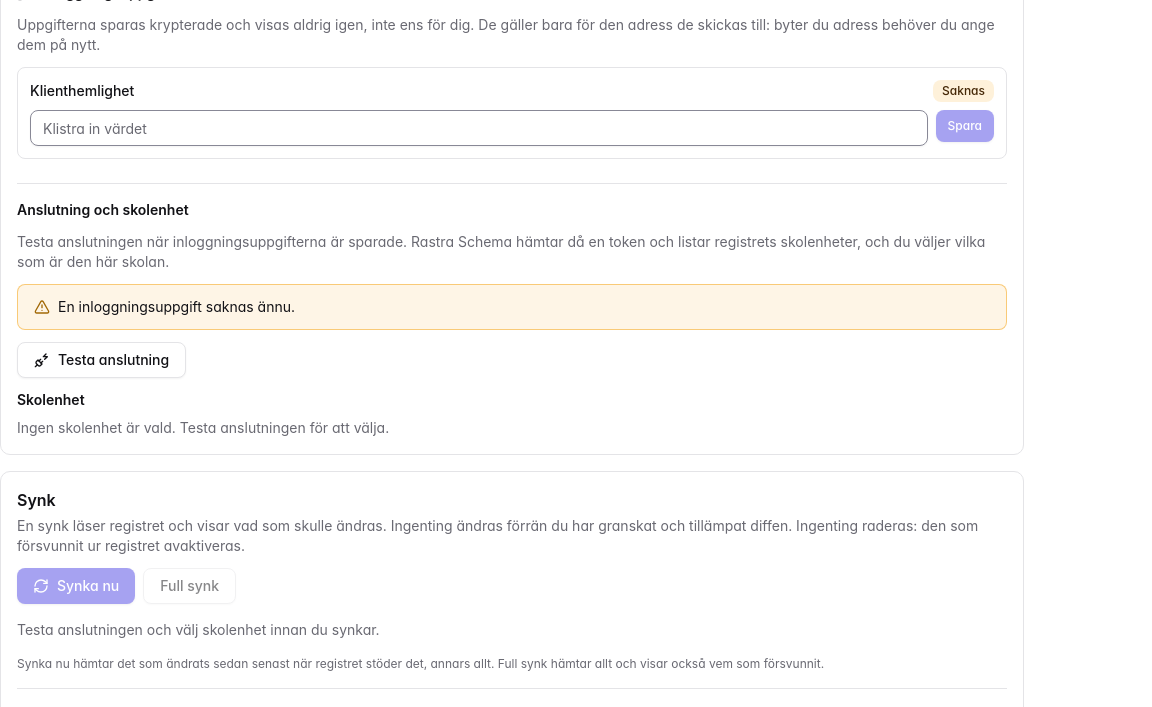
Test: /admin/integrations — the register › says why a test failed in its own words, never the far side's
(page scrolled)
Click the button "Testa anslutning" at (102, 360), box [17,342,186,378]
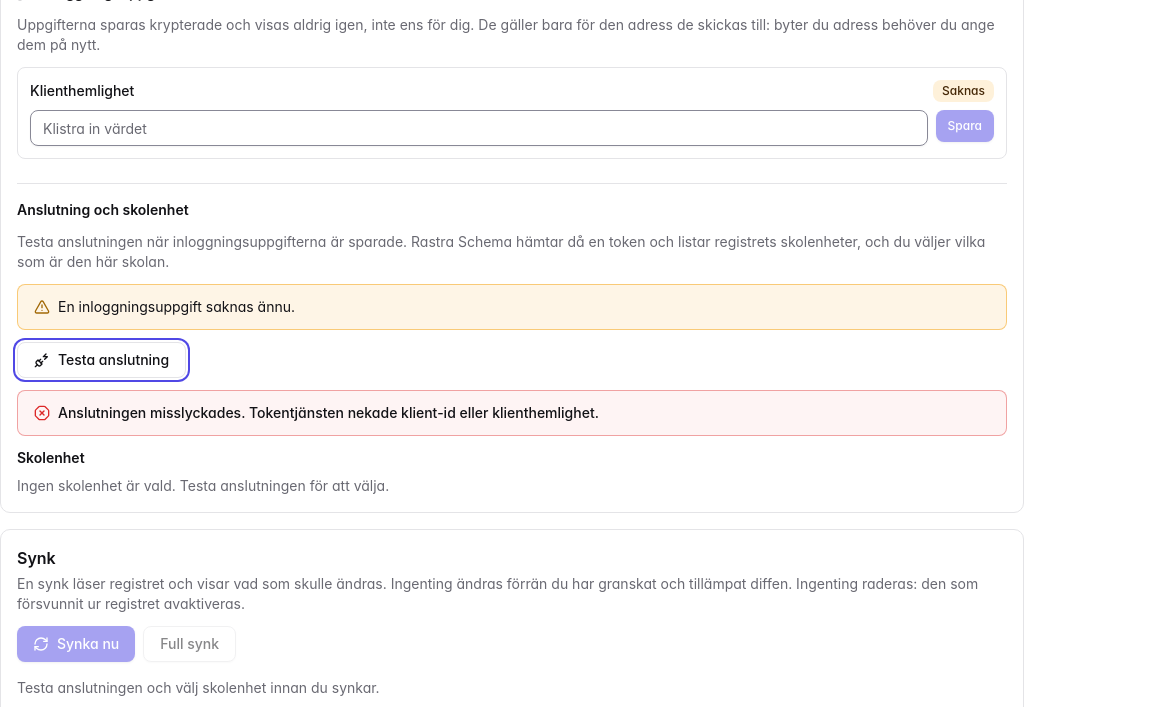
Expected: the message reads "Anslutningen misslyckades. Tokentjänsten nekade klient-id eller klienthemlighet.", [58,404,599,421]
